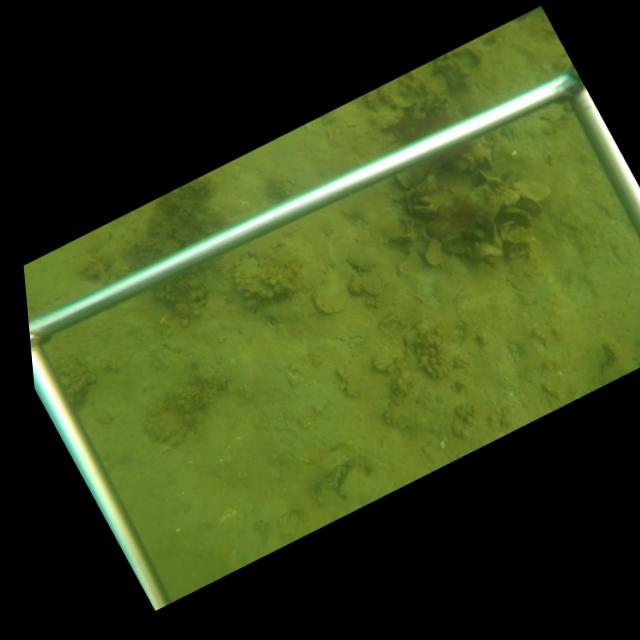Oyster-Closed: (357, 269, 386, 297), (338, 463, 360, 499), (499, 207, 534, 226), (409, 206, 438, 217)
Oyster-Indeterminate: (424, 238, 442, 265)
